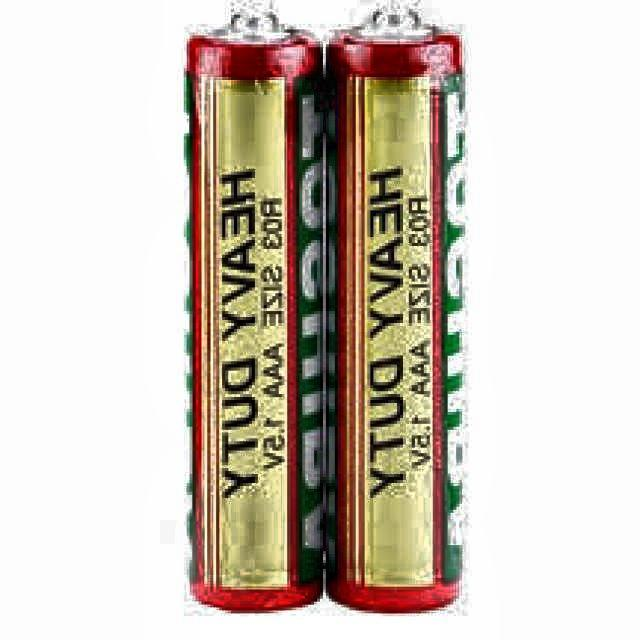Non-Valuable Waste - Batteries: (187, 3, 326, 612), (329, 5, 462, 607)
